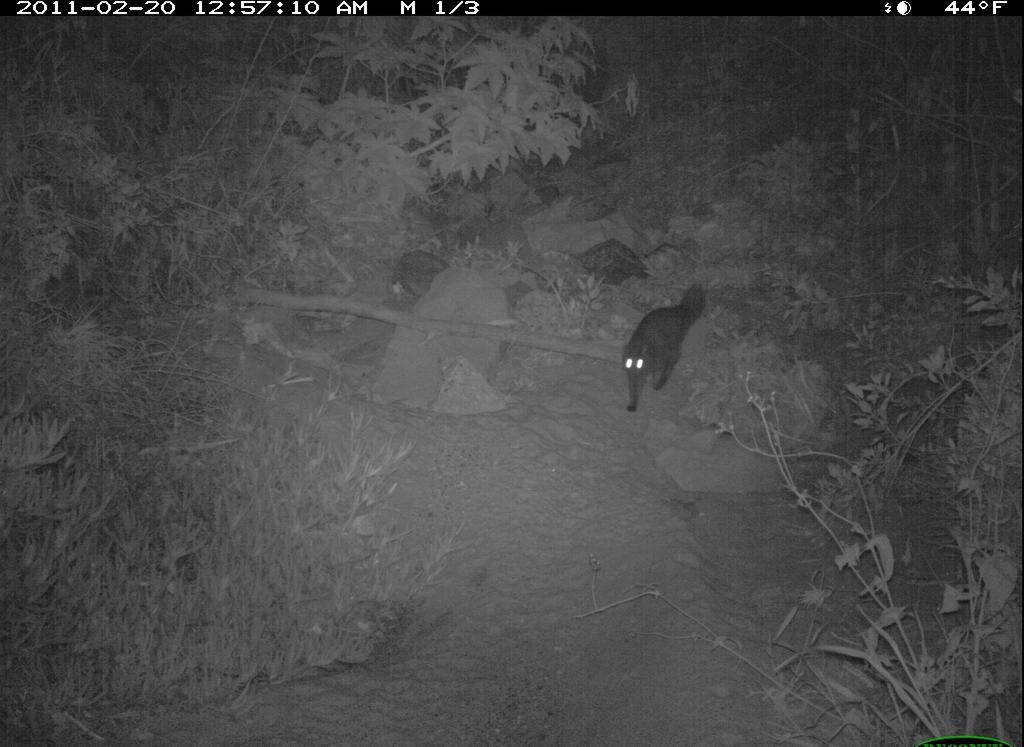cat: (603, 280, 712, 424)
